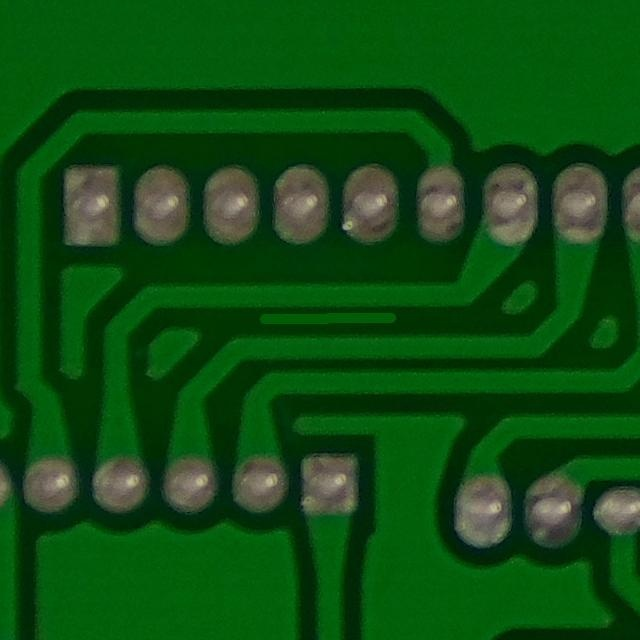spurious_copper: (234, 289, 406, 351)
